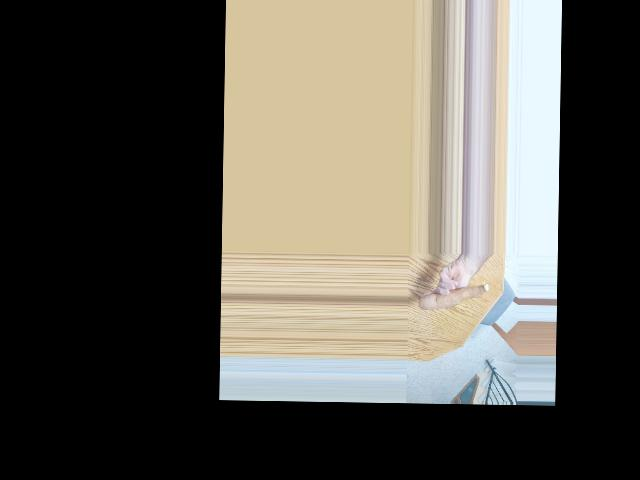sweet_potato: (418, 280, 489, 312)
